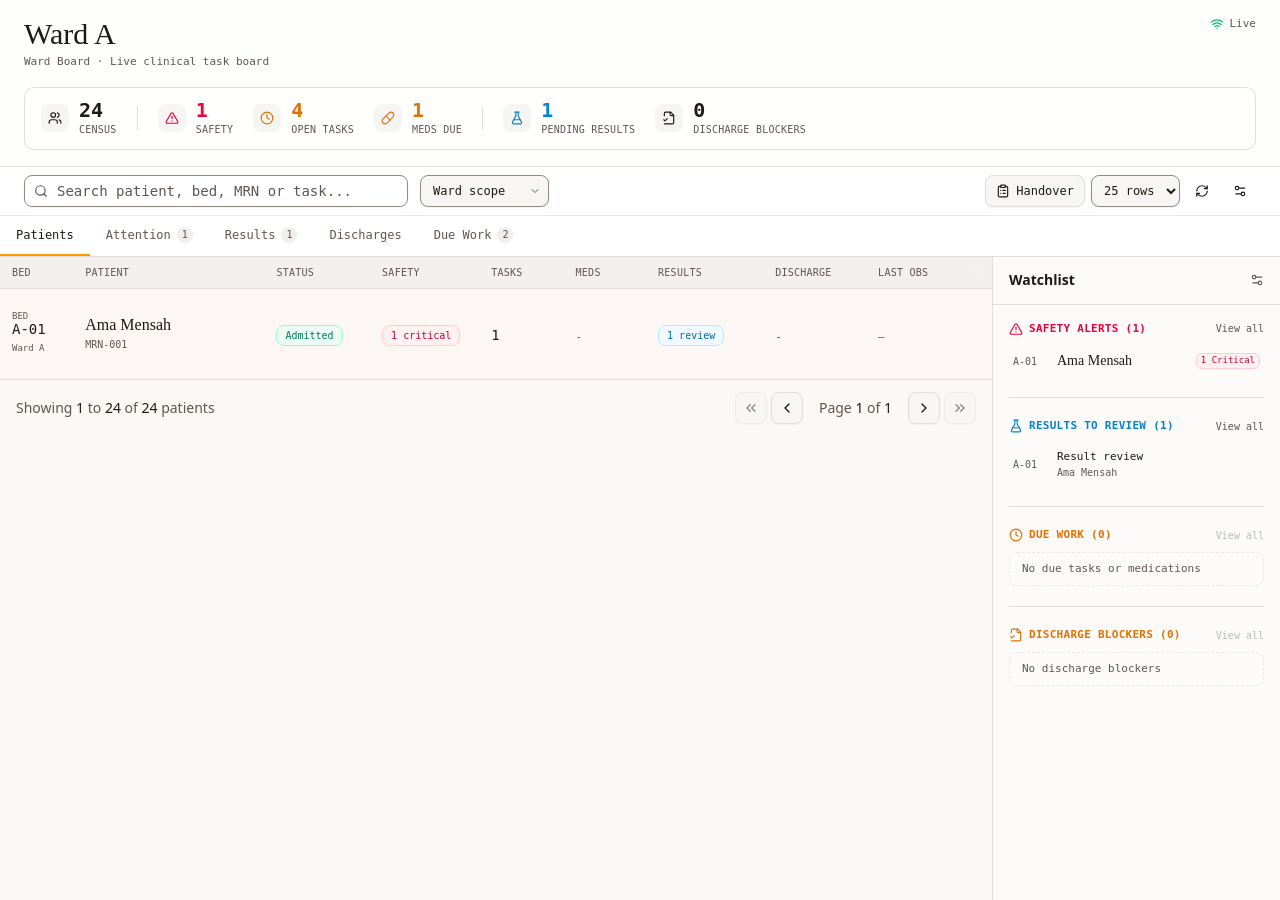
Test: WardBoardPage › opens patient work in a side drawer from a stable patient row
This screenshot has width=1280, height=900.
Click the row named "Open ward-board details for Ama Mensah".
click(540, 333)  # box x1=0 y1=288 x2=1080 y2=378
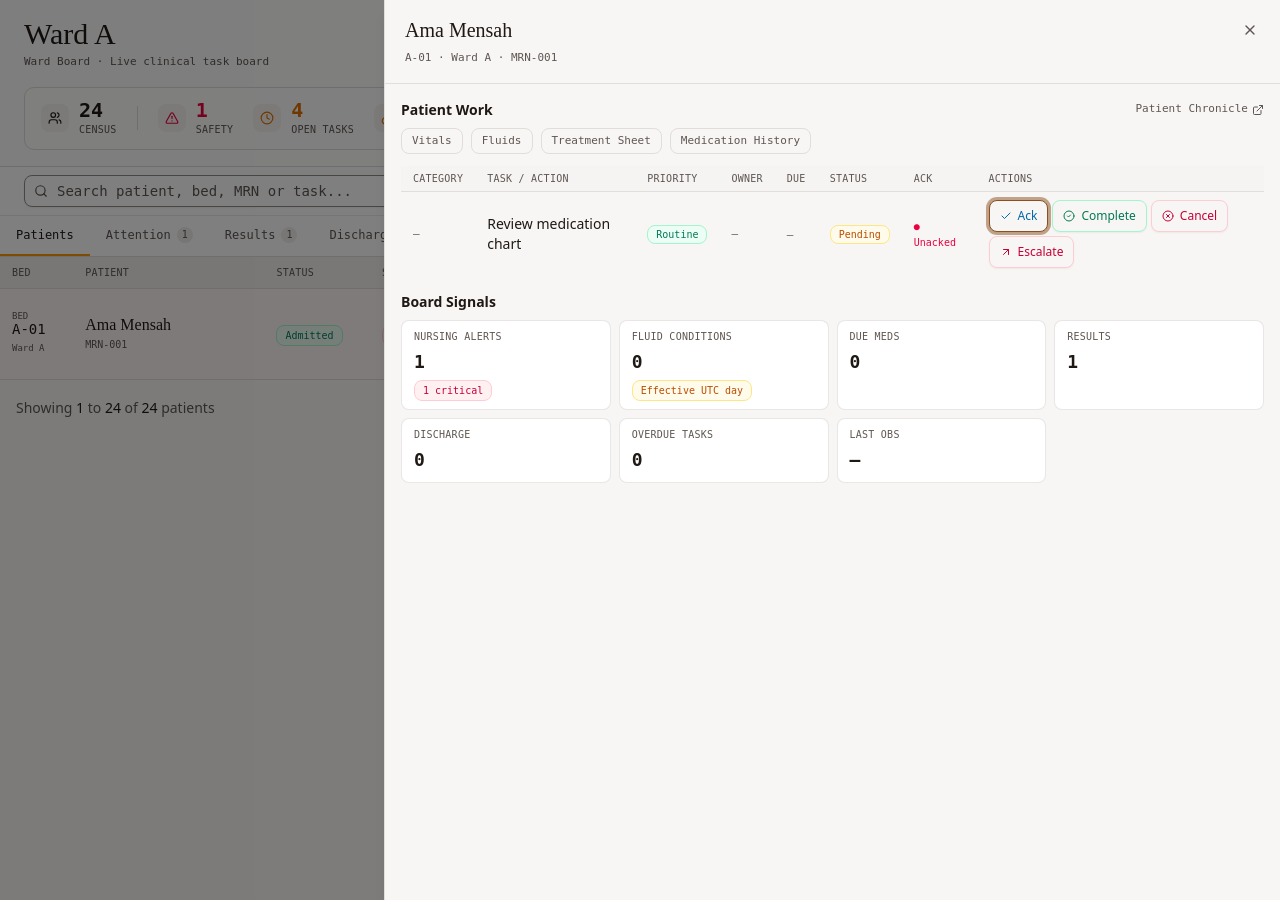
expect the dialog is shown: met
expect the heading "Patient Work" is shown: met, box x1=401 y1=100 x2=493 y2=120
